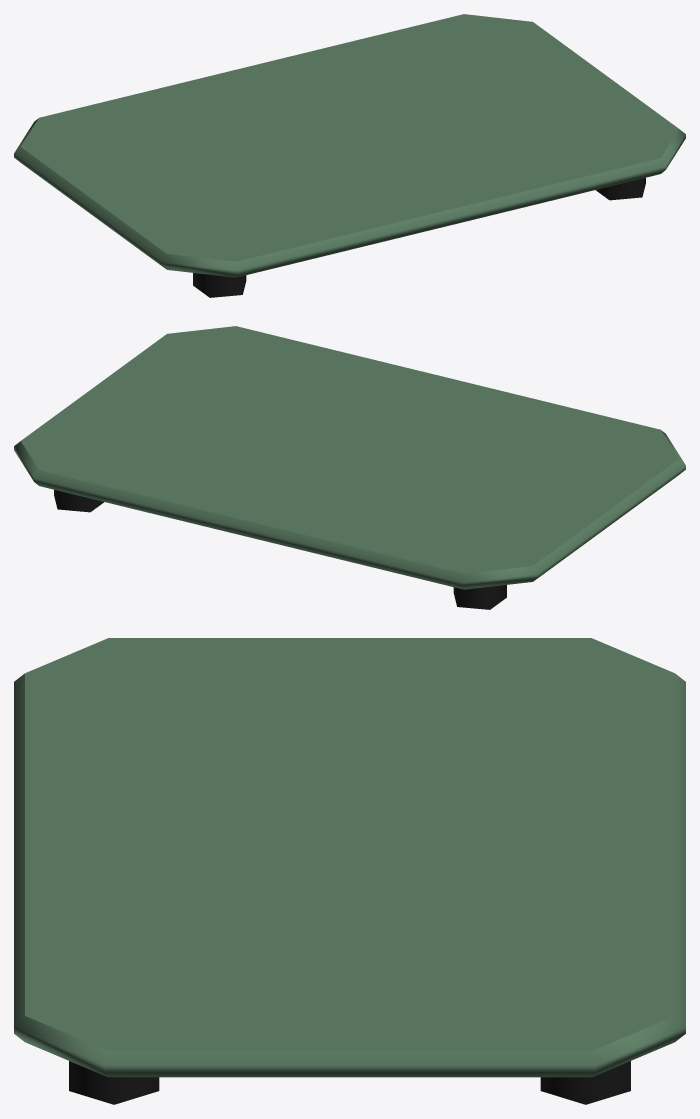
File: t10_mounts.obj
3 renders of one model, top to bottom at view 1: azimuth 30°, elevation 25°; view 2: azimuth 150°, elevation 25°; view 3: azimuth 270°, elevation 25°, orthographic. The views are drawn at different scales.
Parts seen in each view (by area): view 1: t10_mounts; view 2: t10_mounts; view 3: t10_mounts.
Part boxes in pixels (left/top/right/bottom): t10_mounts: left=14, top=14, right=685, bottom=297; t10_mounts: left=14, top=326, right=685, bottom=609; t10_mounts: left=14, top=638, right=685, bottom=1104.
Size of the model in its own units: 2.74 by 0.24 by 1.85.
